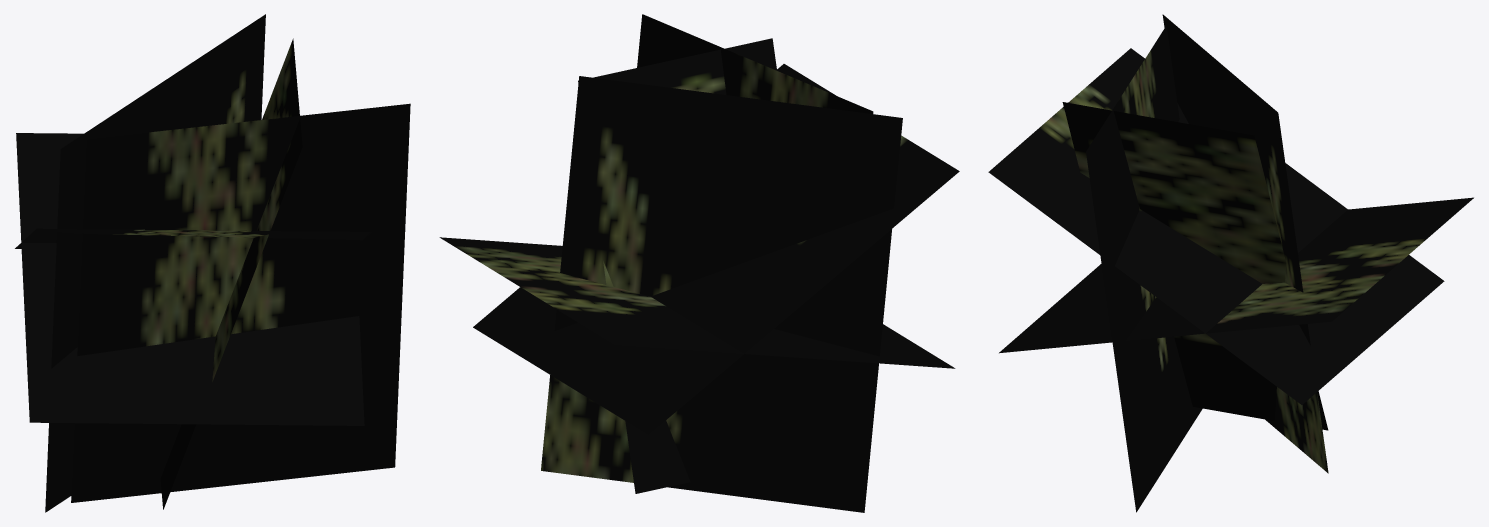
Rendered from pine_leaves_brown_vertical_slab_2.obj.
3 views of the same model, side by side, from view 1: azimuth 30°, elevation 25°; view 2: azimuth 150°, elevation 25°; view 3: azimuth 270°, elevation 25° (orthographic). The views are drawn at different scales.
Parts seen in each view (by area): view 1: plane; view 2: plane; view 3: plane.
Part boxes in pixels (<box>): plane: <box>15,14,410,512</box>; plane: <box>439,14,959,512</box>; plane: <box>988,14,1473,512</box>.
Size of the model in its own units: 1.98 by 1.82 by 2.13.
